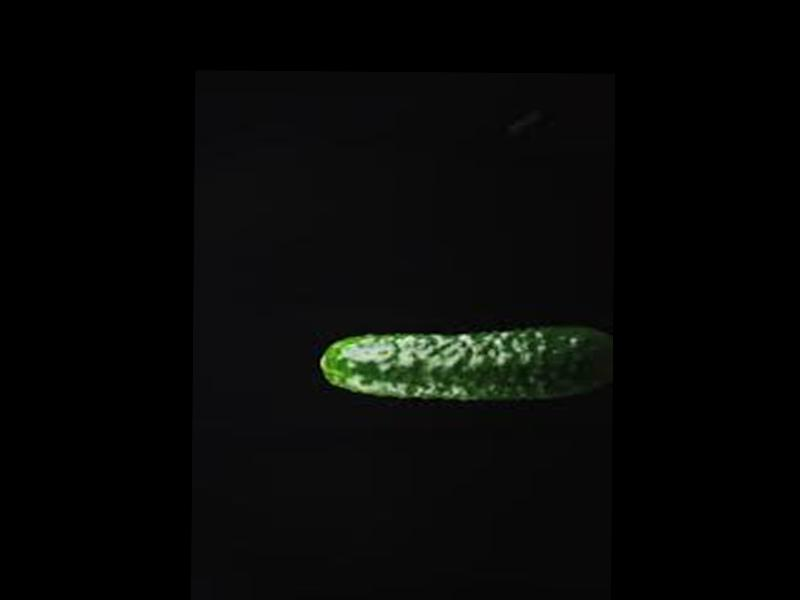Cucumber: (317, 322, 613, 401)
